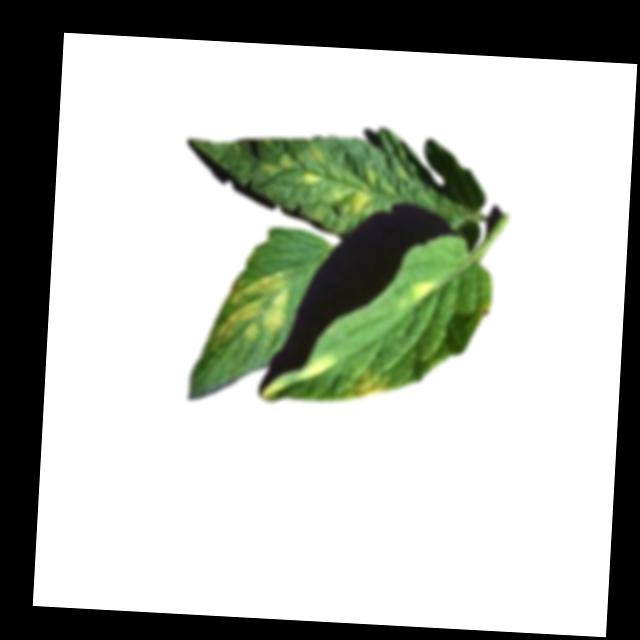Leaf_Mold: (258, 144, 381, 216), (214, 270, 289, 347), (353, 366, 392, 401), (408, 278, 438, 308), (308, 353, 337, 382)
